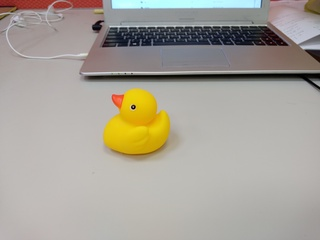duck: (97, 85, 178, 172)
